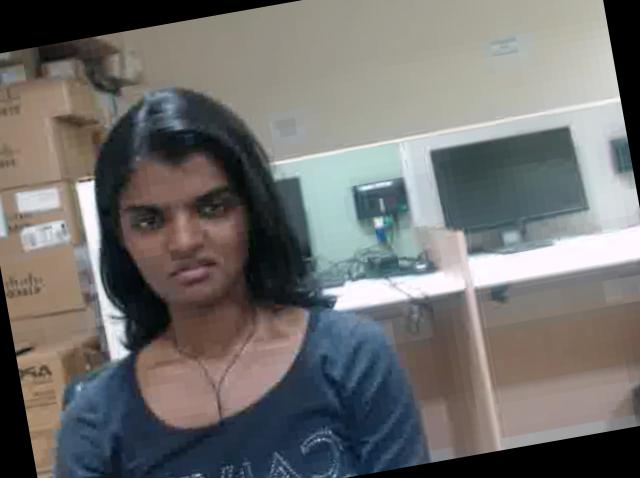bingung: (116, 141, 262, 318)
